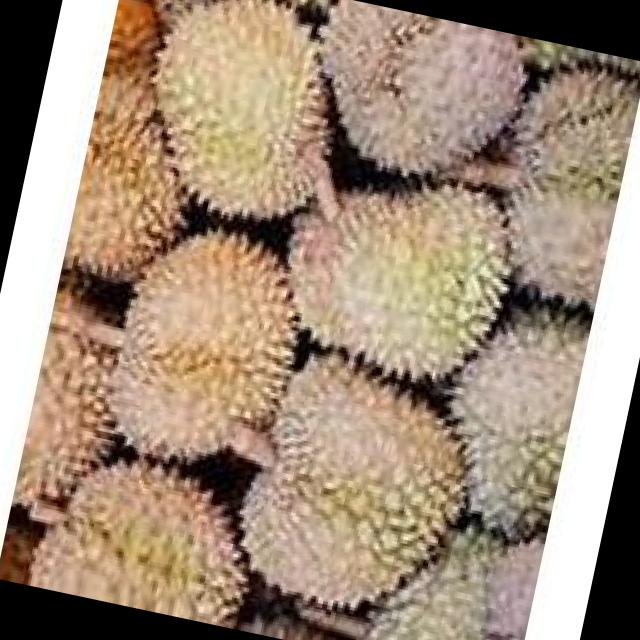fruit: (201, 326, 516, 640), (241, 132, 565, 424), (71, 194, 352, 504), (105, 0, 403, 260), (269, 0, 560, 215), (12, 425, 302, 636), (447, 32, 640, 347)
